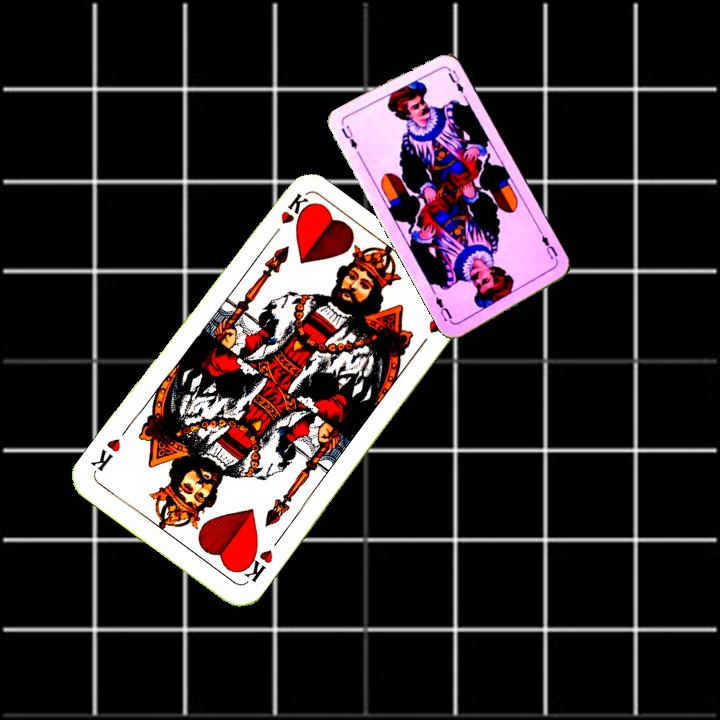EU: (535, 227, 560, 265), (337, 121, 360, 152)
HK: (265, 190, 311, 243), (236, 544, 276, 586)
